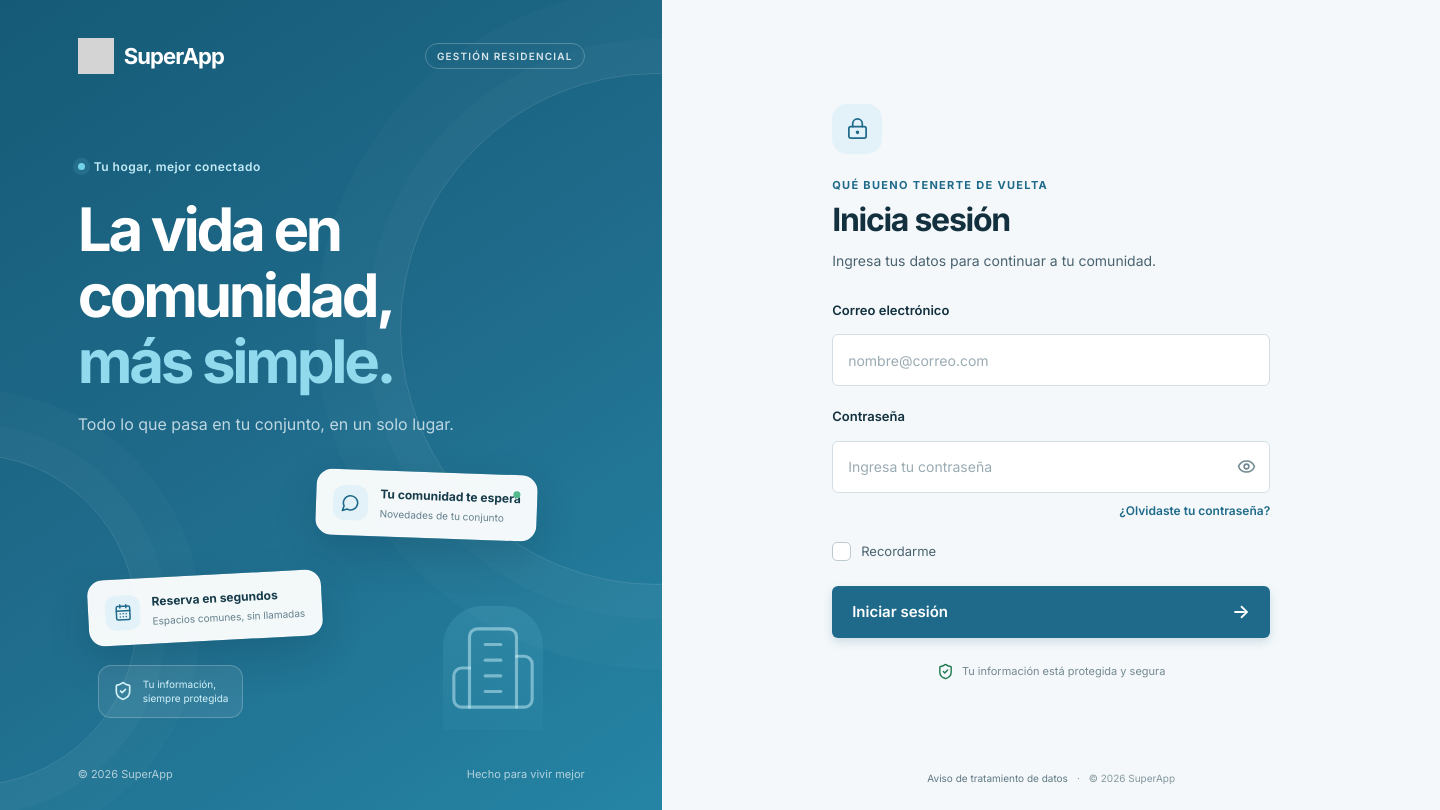
Test: LoginPage › TC-AUTH-06 a network failure shows the connection message with a retry action
In the field labelled "Correo electrónico": (1051, 360) [833, 335, 1269, 385], type "ana@demo.test"
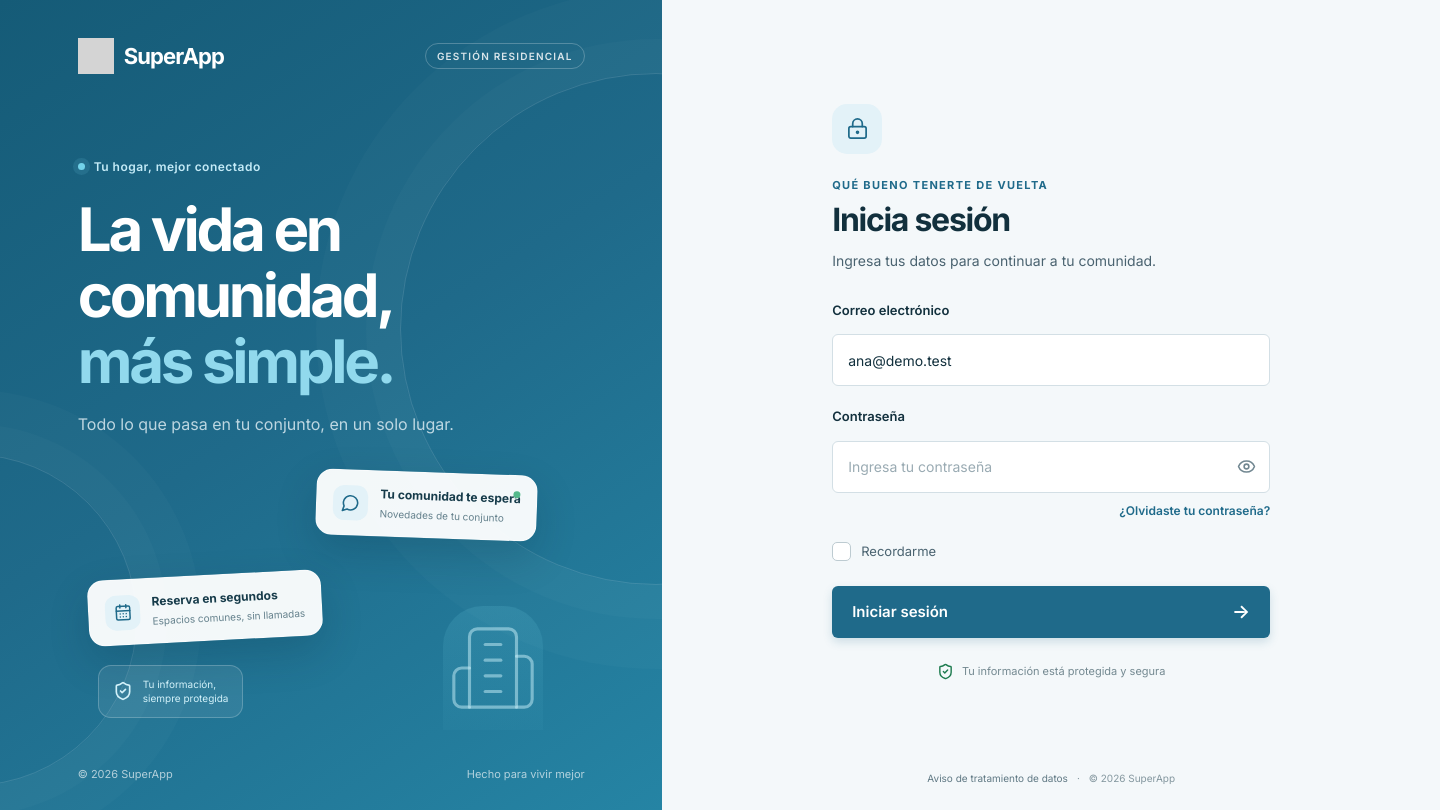
In the password field labelled "Contraseña": (1028, 467) [833, 442, 1223, 492], type "whatever"
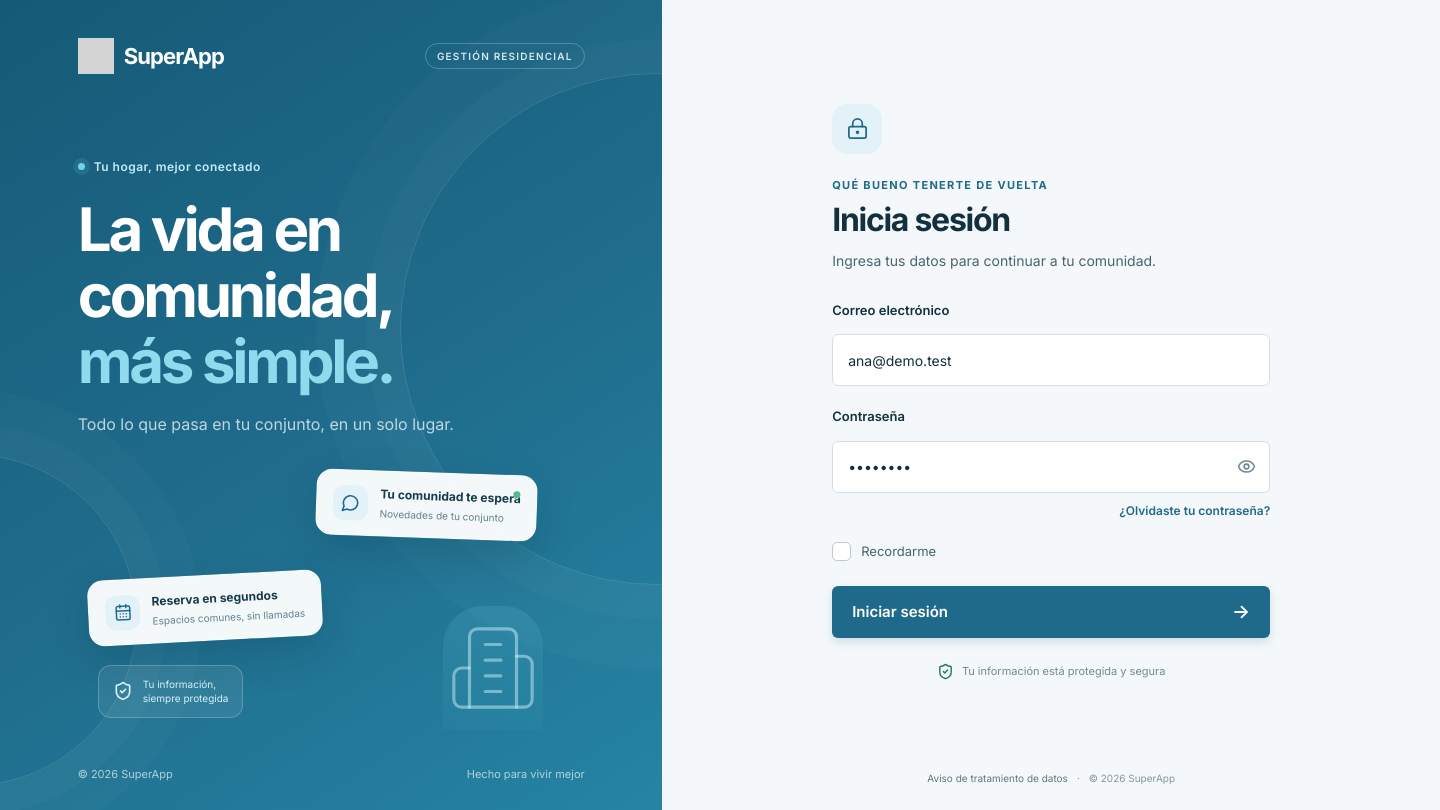
Click the button "Iniciar sesión →": (900, 611) [832, 586, 1270, 638]
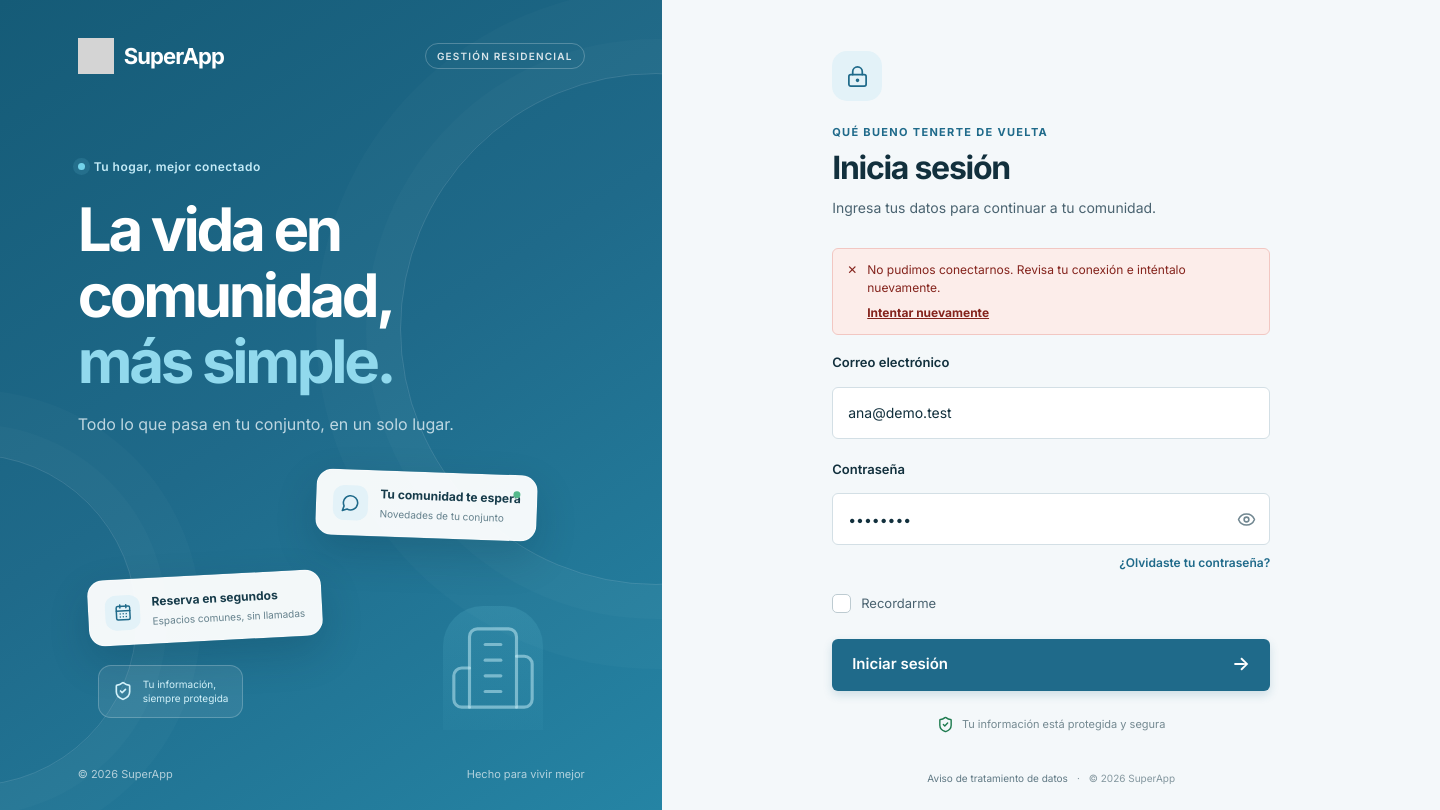
Expected: the message shows "No pudimos conectarnos", [867, 262, 1186, 295]
Expected: the button "Intentar nuevamente" is shown, [867, 304, 989, 322]
